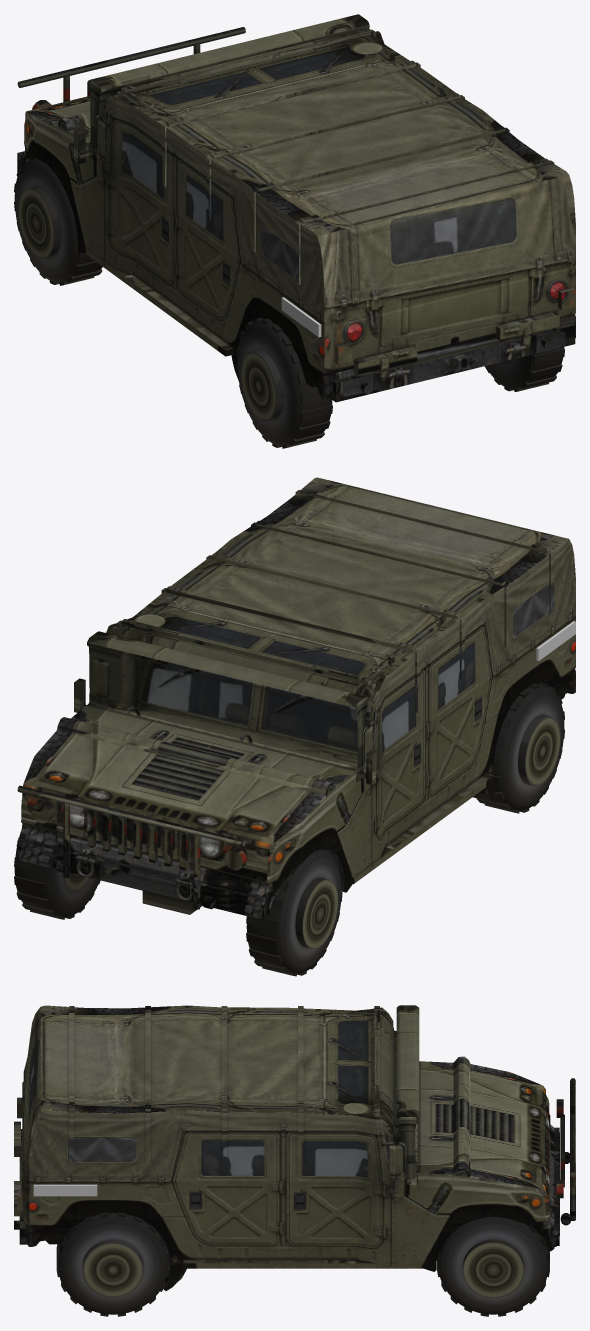
The model's file is hmmwv.glb.
3 views of the same model, one above another, from view 1: azimuth 30°, elevation 25°; view 2: azimuth 150°, elevation 25°; view 3: azimuth 270°, elevation 25° (orthographic). The views are drawn at different scales.
Parts seen in each view (by area): view 1: Hull, WheelRL, WheelFL, WheelRR; view 2: Hull, WheelFL, WheelRL, WheelFR; view 3: Hull, WheelRR, WheelFR.
Boxes of the visible parts, x1=… form: Hull: x1=17, y1=14, x2=575, y2=402; WheelRL: x1=236, y1=317, x2=332, y2=448; WheelFL: x1=14, y1=156, x2=102, y2=285; WheelRR: x1=485, y1=347, x2=564, y2=391; Hull: x1=17, y1=477, x2=575, y2=920; WheelFL: x1=246, y1=848, x2=342, y2=976; WheelRL: x1=477, y1=682, x2=564, y2=813; WheelFR: x1=14, y1=832, x2=100, y2=919; Hull: x1=14, y1=1005, x2=575, y2=1290; WheelRR: x1=56, y1=1212, x2=169, y2=1316; WheelFR: x1=437, y1=1216, x2=549, y2=1316.
Bounding box in the file's own units: 2.52 × 1.93 × 4.81.
2 materials, 1 textured.
